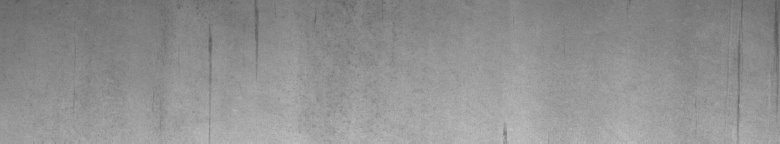ka: (733, 6, 776, 133)
